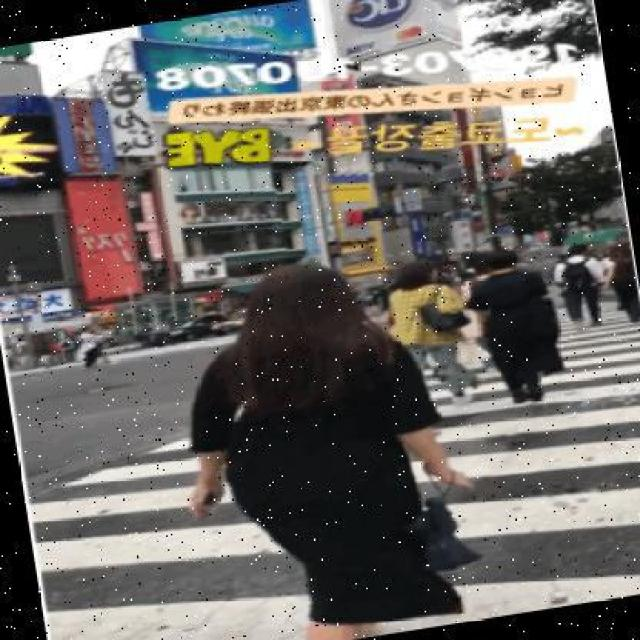Person: (157, 244, 492, 638), (462, 240, 564, 412), (378, 252, 477, 414), (547, 237, 613, 334)
